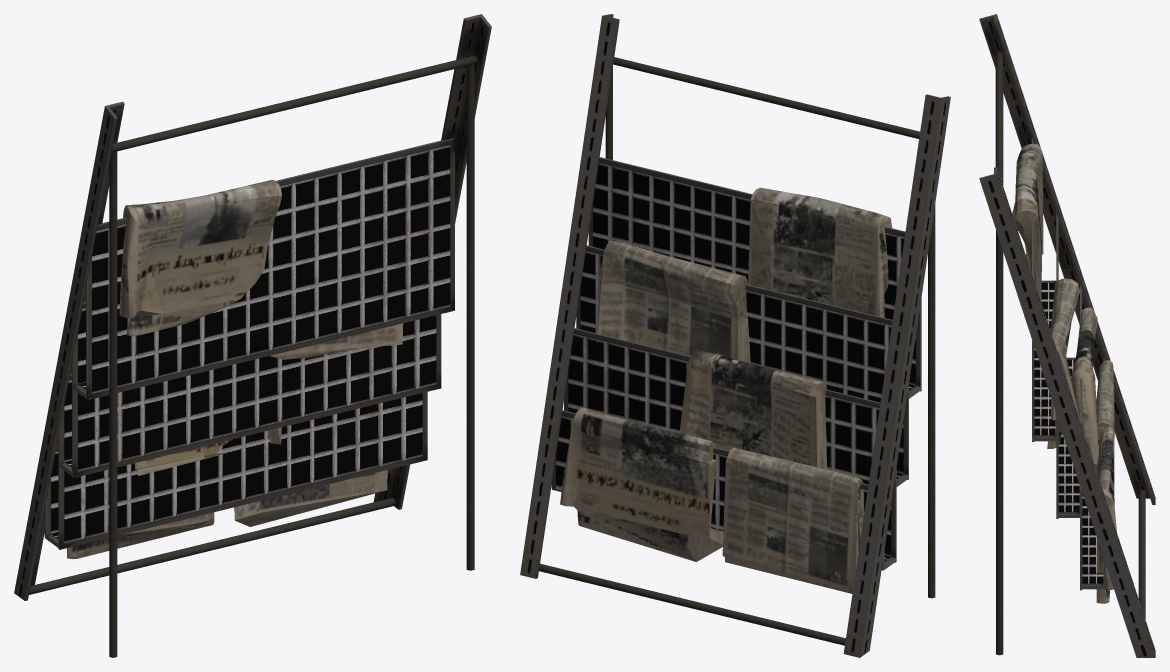
File: sm39_119_magazinerackset01a.fbx
3 views of the same model, side by side, from view 1: azimuth 30°, elevation 25°; view 2: azimuth 150°, elevation 25°; view 3: azimuth 270°, elevation 25° (orthographic). The views are drawn at different scales.
Parts seen in each view (by area): view 1: LOD_1_Group_0_Sub_1__sm30_123_MagazineRack01A_A_Mat, LOD_1_Group_0_Sub_2__sm36_010_Newspaper01A_A_Mat; view 2: LOD_1_Group_0_Sub_1__sm30_123_MagazineRack01A_A_Mat, LOD_1_Group_0_Sub_2__sm36_010_Newspaper01A_A_Mat; view 3: LOD_1_Group_0_Sub_1__sm30_123_MagazineRack01A_A_Mat, LOD_1_Group_0_Sub_2__sm36_010_Newspaper01A_A_Mat.
Boxes of the visible parts, bbox=[...] form: LOD_1_Group_0_Sub_1__sm30_123_MagazineRack01A_A_Mat: bbox=[14, 14, 491, 657]; LOD_1_Group_0_Sub_2__sm36_010_Newspaper01A_A_Mat: bbox=[66, 180, 403, 559]; LOD_1_Group_0_Sub_1__sm30_123_MagazineRack01A_A_Mat: bbox=[520, 14, 950, 657]; LOD_1_Group_0_Sub_2__sm36_010_Newspaper01A_A_Mat: bbox=[560, 187, 892, 593]; LOD_1_Group_0_Sub_1__sm30_123_MagazineRack01A_A_Mat: bbox=[979, 14, 1155, 657]; LOD_1_Group_0_Sub_2__sm36_010_Newspaper01A_A_Mat: bbox=[1012, 144, 1116, 603].
Bounding box in the file's own units: 0.9135 × 1.28 × 0.4234.
